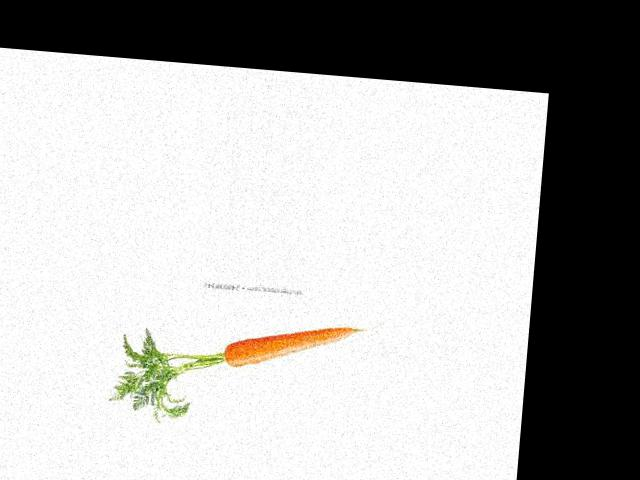carrot: (218, 306, 363, 379)
